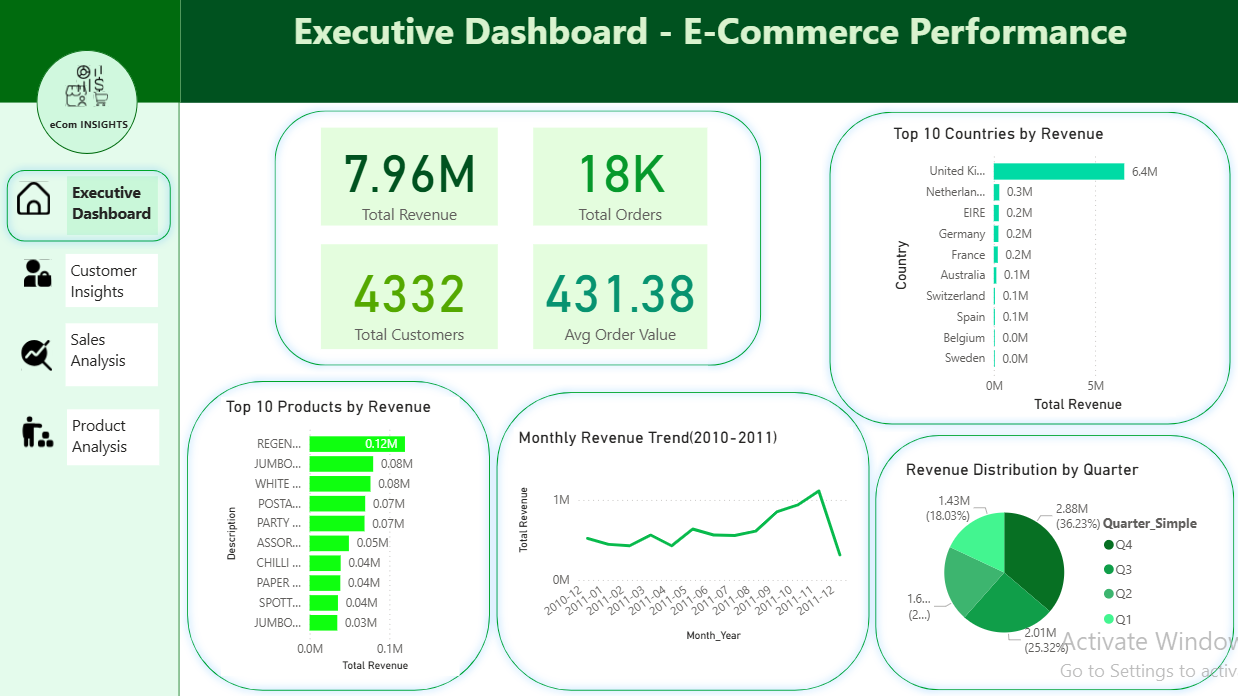

The page's visual inventory and layout, read from the dashboard file:
{"tool":"powerbi","page":{"name":"Page 1","canvas":[1280,720],"ordinal":0},"visuals":[{"type":"shape","box":[894.7,440.8,385.9,278.9],"z":0},{"type":"shape","box":[848.4,107,429.3,338.2],"z":1000},{"type":"shape","box":[504.4,396,400.4,323.8],"z":2000},{"type":"shape","box":[186.4,384.5,328.1,335.3],"z":3000},{"type":"shape","box":[276.1,105.5,517.4,278.9],"z":4000},{"type":"shape","box":[0,0,186.1,719.2],"z":5000},{"type":"card","fields":{"Values":["public transactions.Total Revenue"]},"box":[332.4,131.5,182.1,101.2],"z":6000},{"type":"card","fields":{"Values":["public transactions.Total Orders"]},"box":[550.7,131.5,179.2,101.2],"z":7000},{"type":"card","fields":{"Values":["public transactions.Total Customers"]},"box":[332.4,251.5,182.1,108.4],"z":8000},{"type":"card","fields":{"Values":["public transactions.Avg Order Value"]},"box":[550.7,251.5,179.2,108.4],"z":9000},{"type":"lineChart","title":"Monthly Revenue Trend(2010-2011)","fields":{"Y":["public transactions.Total Revenue"],"Category":["public transactions.Month_Year"]},"box":[530.4,440.8,349.8,225.5],"z":10000},{"type":"textbox","box":[187.1,0,1091.4,105.7],"z":11000},{"type":"actionButton","box":[15,182.5,53.8,42.5],"z":12000},{"type":"actionButton","box":[21.2,261.2,36.2,40],"z":13000},{"type":"actionButton","box":[18,338,40,58],"z":14000},{"type":"actionButton","box":[18.8,422.5,42.5,46.2],"z":15000},{"type":"textbox","box":[69.4,182.1,93.9,60.7],"z":16000},{"type":"textbox","box":[68.8,261.2,95,55],"z":17000},{"type":"textbox","box":[68.8,332.5,95,65],"z":18000},{"type":"textbox","box":[69.4,422,95.4,57.8],"z":19000},{"type":"pieChart","title":"Revenue Distribution by Quarter","fields":{"Category":["public transactions.Quarter_Simple"],"Y":["public transactions.Total Revenue"]},"box":[929.3,472.6,318,213.9],"z":20000},{"type":"clusteredBarChart","title":"Top 10 Countries by Revenue","fields":{"Category":["public transactions.Country"],"Y":["public transactions.Total Revenue"]},"box":[916.3,127.2,296.3,302.1],"z":21000},{"type":"clusteredBarChart","title":"Top 10 Products by Revenue","fields":{"Category":["public transactions.Description"],"Y":["public transactions.Total Revenue"]},"box":[228.4,409,245.7,287.6],"z":22000},{"type":"shape","box":[0,0,187.1,105.7],"z":23000},{"type":"shape","box":[38.6,51.4,104.3,107.1],"z":24000},{"type":"actionButton","box":[64,81.2,29.6,34.4],"z":25000},{"type":"actionButton","box":[93.6,89.6,40.8,23.2],"z":26000},{"type":"actionButton","box":[75.2,62.4,77.6,36],"z":27000},{"type":"textbox","box":[46.9,112.3,139.2,30],"z":28000},{"type":"shape","box":[0,167.7,185,89.6],"z":29000}]}

Visuals, with their boxes on the page's 1280x720 design canvas (x1, y1, x2, y2). These are canvas units, not pixel positions in the 1238x696 screenshot, which may show the page scaled, cropped or inside an application window:
shape: (895, 441, 1281, 720)
shape: (848, 107, 1278, 445)
shape: (504, 396, 905, 720)
shape: (186, 384, 514, 720)
shape: (276, 106, 794, 384)
shape: (0, 0, 186, 719)
card - public transactions.Total Revenue: (332, 132, 514, 233)
card - public transactions.Total Orders: (551, 132, 730, 233)
card - public transactions.Total Customers: (332, 252, 514, 360)
card - public transactions.Avg Order Value: (551, 252, 730, 360)
"Monthly Revenue Trend(2010-2011)" lineChart: (530, 441, 880, 666)
textbox: (187, 0, 1278, 106)
actionButton: (15, 182, 69, 225)
actionButton: (21, 261, 57, 301)
actionButton: (18, 338, 58, 396)
actionButton: (19, 422, 61, 469)
textbox: (69, 182, 163, 243)
textbox: (69, 261, 164, 316)
textbox: (69, 332, 164, 398)
textbox: (69, 422, 165, 480)
"Revenue Distribution by Quarter" pieChart: (929, 473, 1247, 686)
"Top 10 Countries by Revenue" clusteredBarChart: (916, 127, 1213, 429)
"Top 10 Products by Revenue" clusteredBarChart: (228, 409, 474, 697)
shape: (0, 0, 187, 106)
shape: (39, 51, 143, 158)
actionButton: (64, 81, 94, 116)
actionButton: (94, 90, 134, 113)
actionButton: (75, 62, 153, 98)
textbox: (47, 112, 186, 142)
shape: (0, 168, 185, 257)
